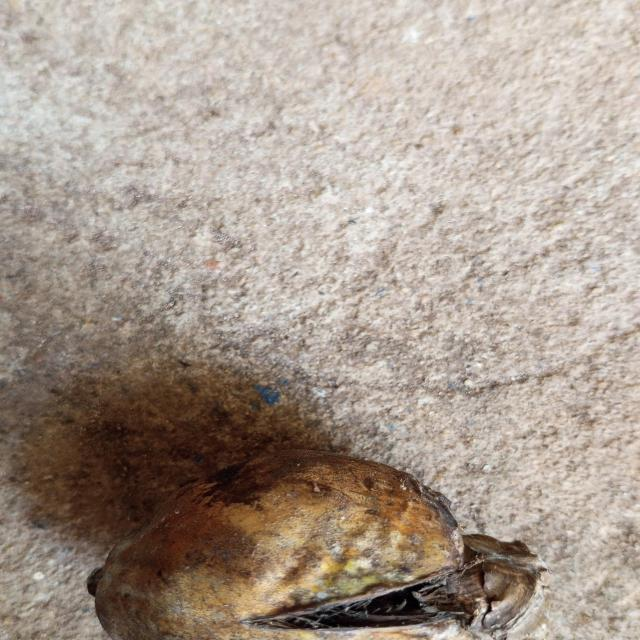damaged: (87, 444, 542, 640)
